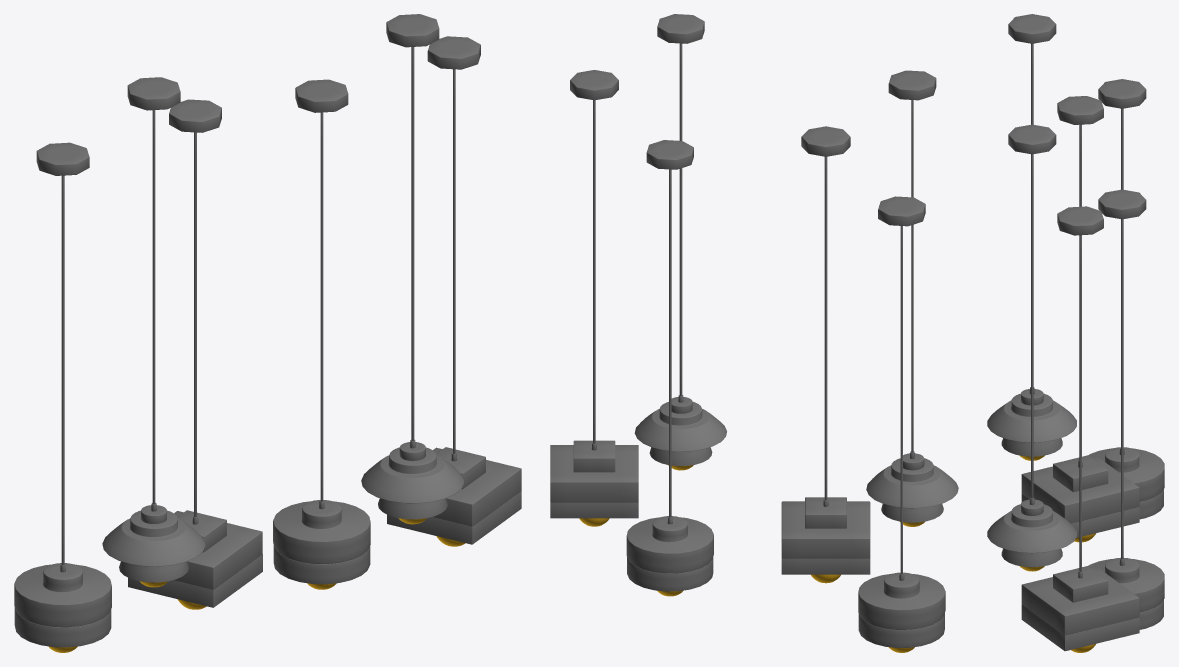
The model's file is pendant light Wooden LED_focos_amarillos_CORREGIDO.obj.
The picture shows the model from 3 angles, left to right: view 1: azimuth 30°, elevation 25°; view 2: azimuth 150°, elevation 25°; view 3: azimuth 270°, elevation 25°; orthographic projection. The views are drawn at different scales.
Parts seen in each view (by area): view 1: Cylinder002, Cylinder006, Box007, Cylinder004, Box005, Cylinder008, Box004, Box006, Cylinder001, Cylinder005, Line015, Line013 (+12 smaller); view 2: Box005, Box007, Cylinder006, Cylinder002, Cylinder008, Cylinder004, Cylinder005, Cylinder001, Box004, Box006, Line010, Line014 (+12 smaller); view 3: Box007, Box005, Cylinder008, Cylinder004, Cylinder006, Cylinder002, Box006, Line019, Line015, Line009, Line013, Line017 (+9 smaller).
Boxes of the visible parts, box(x1,y1,x2,y2) form: Cylinder002: box(14, 563, 111, 627); Cylinder006: box(273, 500, 370, 563); Box007: box(432, 447, 521, 526); Cylinder004: box(102, 510, 205, 566); Box005: box(173, 510, 262, 589); Cylinder008: box(361, 447, 464, 503); Box004: box(128, 554, 262, 607); Box006: box(387, 491, 521, 544); Cylinder001: box(14, 608, 111, 647); Cylinder005: box(273, 545, 370, 584); Line015: box(386, 14, 439, 448); Line013: box(36, 142, 89, 572); Box005: box(781, 497, 870, 558); Box007: box(550, 440, 638, 502); Cylinder006: box(626, 516, 713, 573); Cylinder002: box(858, 572, 945, 629); Cylinder008: box(634, 402, 726, 451); Cylinder004: box(866, 458, 958, 508); Cylinder005: box(627, 557, 713, 591); Cylinder001: box(858, 613, 944, 647); Box004: box(781, 558, 870, 574); Box006: box(550, 502, 638, 518); Line010: box(824, 156, 827, 500); Line014: box(679, 43, 682, 395); Box007: box(1021, 566, 1139, 635); Box005: box(1021, 455, 1139, 523); Cylinder008: box(987, 504, 1076, 553); Cylinder004: box(987, 393, 1076, 442); Cylinder006: box(1088, 557, 1164, 611); Cylinder002: box(1088, 447, 1164, 501); Box006: box(1021, 604, 1139, 651); Line019: box(1098, 189, 1146, 565); Line015: box(1008, 124, 1056, 504); Line009: box(1008, 14, 1056, 394); Line013: box(1098, 79, 1146, 454); Line017: box(1057, 206, 1103, 578).
Bounding box in the file's own units: 984 × 1188 × 369.
